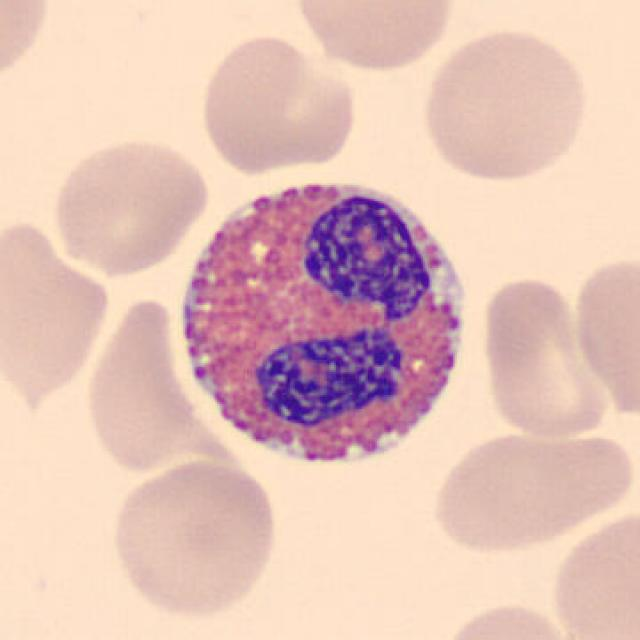Eosinophil: (160, 153, 487, 492)
RBC: (105, 455, 283, 622), (416, 23, 594, 185), (426, 422, 634, 558), (194, 30, 359, 176), (48, 132, 213, 277), (476, 272, 612, 442), (0, 214, 114, 408), (80, 292, 196, 480), (546, 504, 640, 640), (567, 248, 640, 422), (288, 0, 459, 74), (437, 597, 581, 640), (0, 0, 55, 92)
